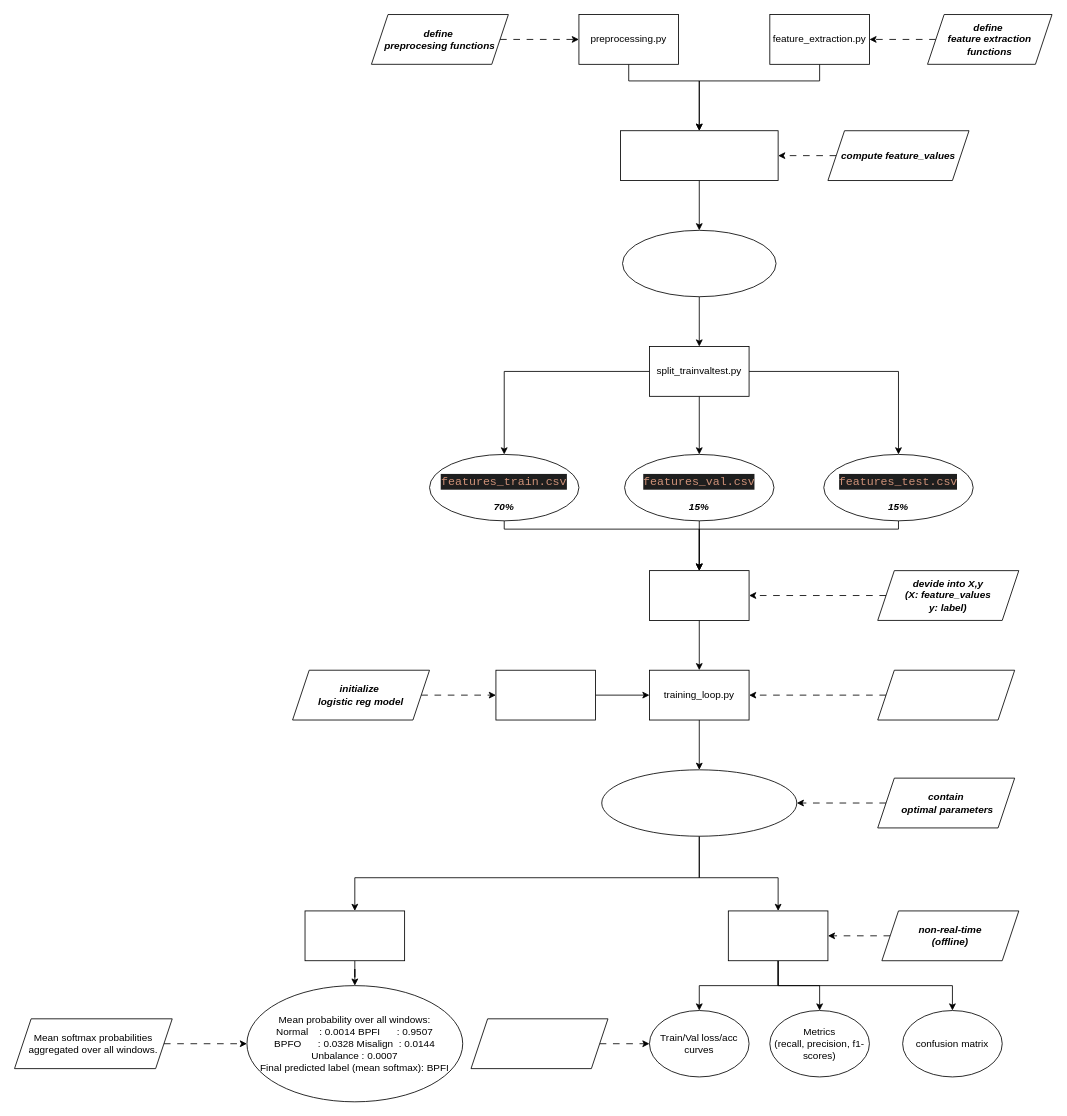
Some shapes in this 1067 by 1116 pixel diagram are drawn without their labels. Here are the shapes that lost their labels. From the top down, the box of each, then its label:
(620, 130, 778, 181): compute_features_extraction.py
(622, 229, 776, 297): features_5labels.csv
(649, 570, 749, 620): prepare_data.py
(495, 669, 596, 720): Model.py
(877, 669, 1015, 720): run loop to find out the best parameter
(601, 769, 797, 836): softmax_logistic_model.pkl
(304, 910, 405, 961): inference.py
(727, 910, 828, 961): Test.py
(470, 1018, 608, 1069): check overfitting
